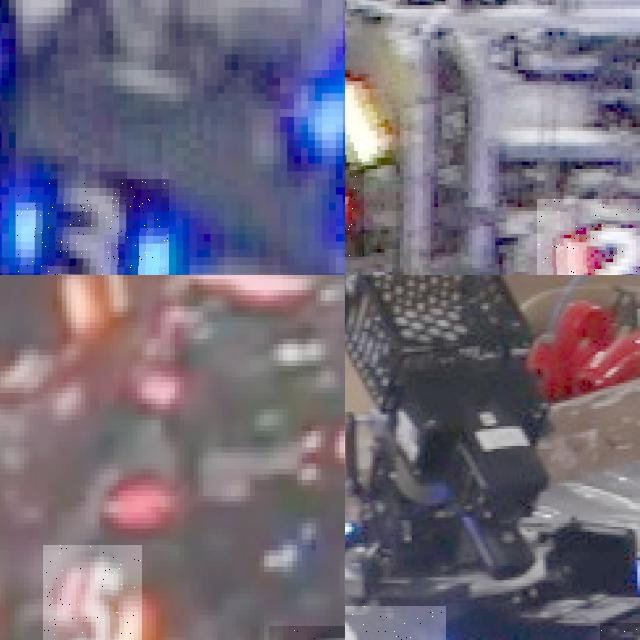B3: (16, 179, 169, 275)
R2: (537, 199, 640, 275), (345, 146, 363, 256)
R5: (43, 544, 142, 640)
